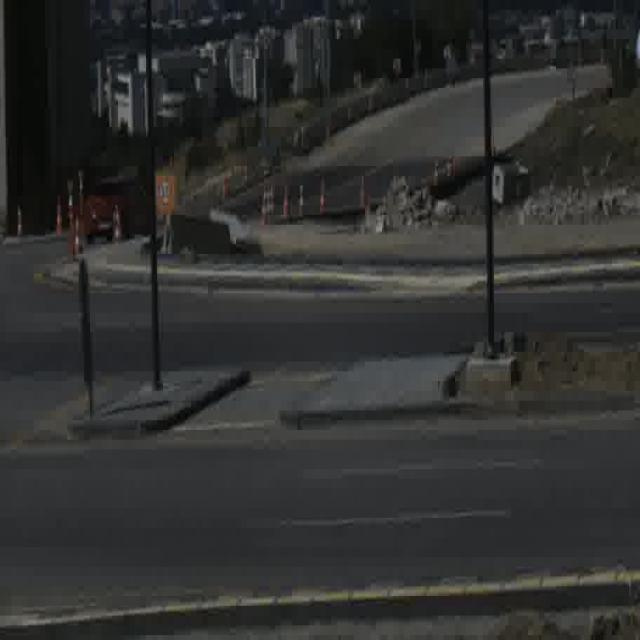Car: (87, 176, 147, 242)
